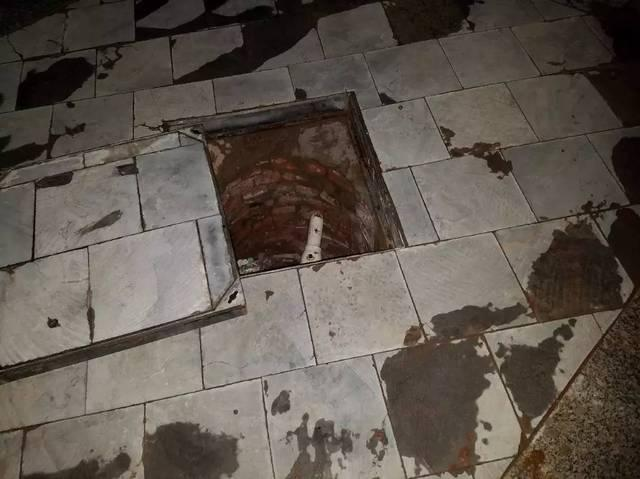wellcover: (0, 85, 410, 384)
